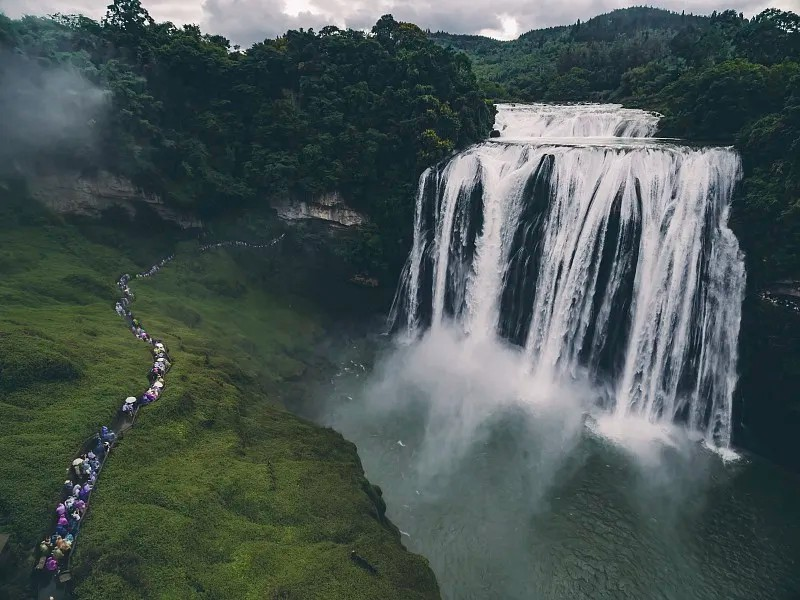Huangguoshu: (389, 102, 746, 460)
